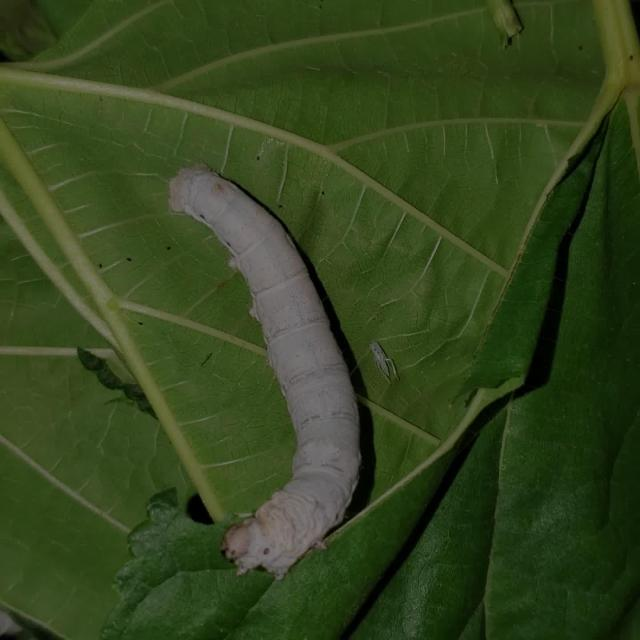Healthy: (156, 147, 376, 589)
